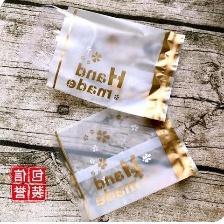snack: (50, 80, 204, 220), (39, 1, 191, 124)
